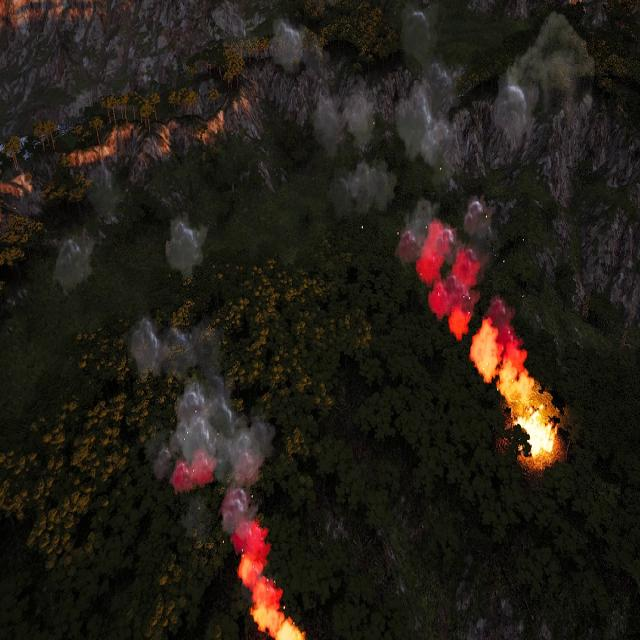fire: (519, 407, 558, 460)
smoke: (312, 0, 595, 404), (132, 313, 308, 640), (51, 162, 119, 294), (164, 212, 212, 278), (269, 15, 307, 77)
